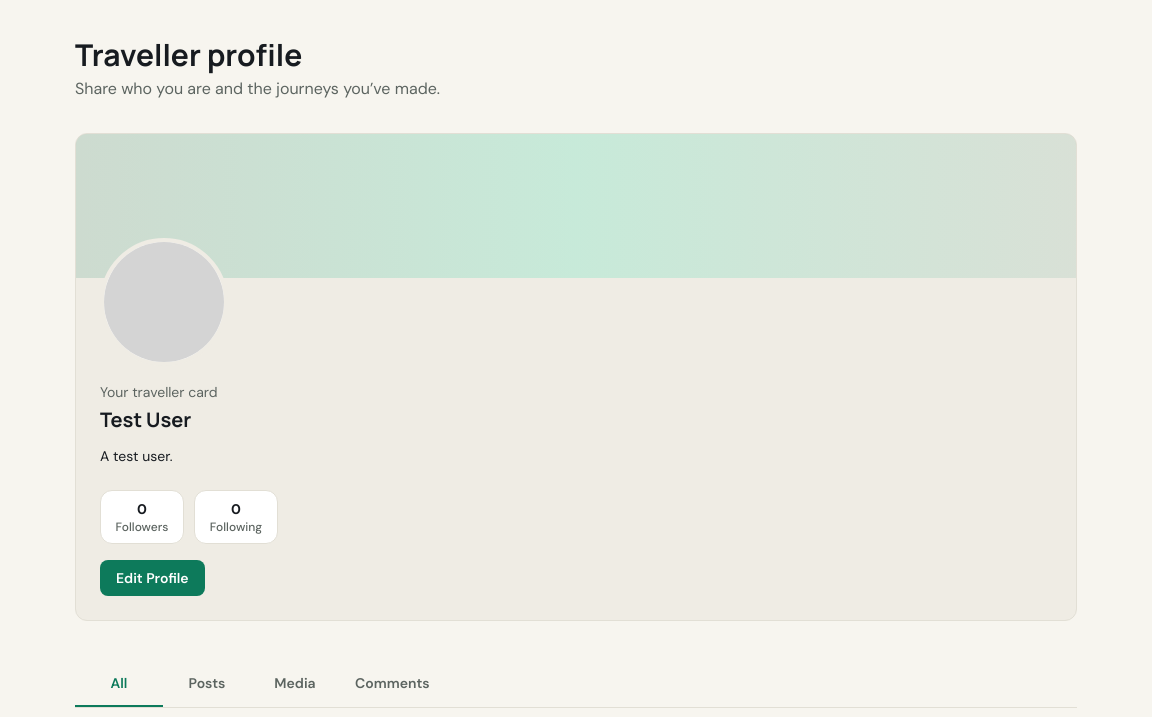
Test: Profile page rendering › shows a read-only profile until editing is requested
The image size is (1152, 717).
Click the button "Edit Profile".
click(152, 578)  # box [100,560,205,596]
(page scrolled)
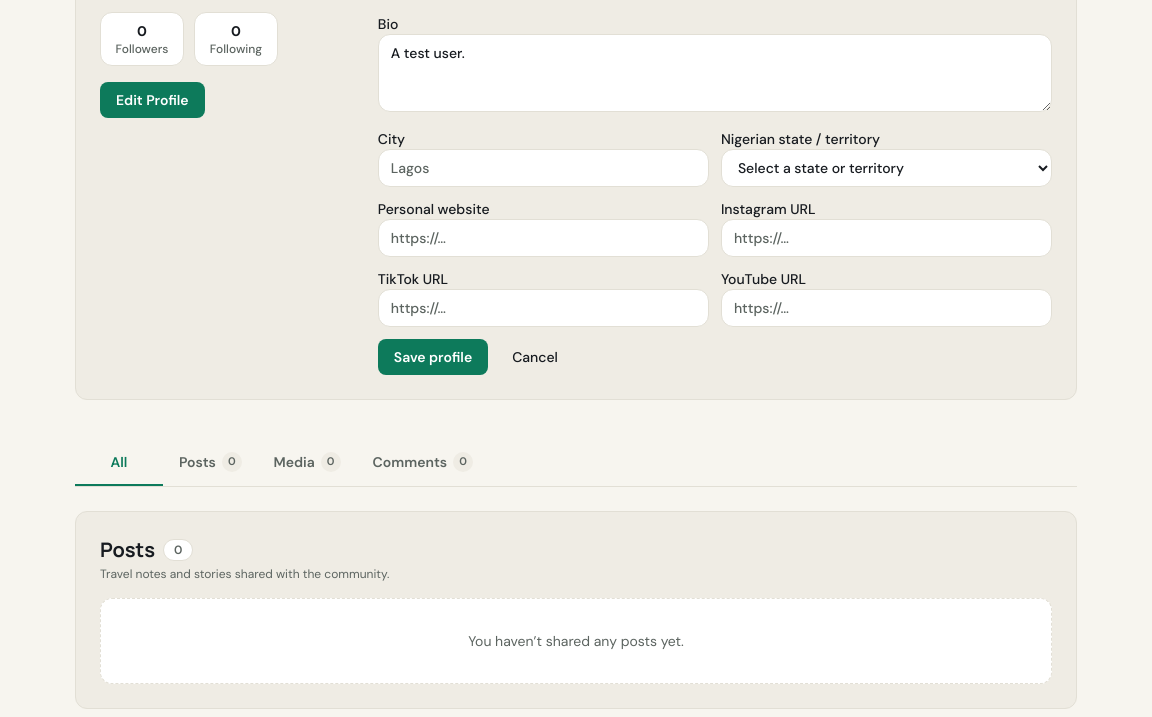
Check: the tab "Posts 0" is shown, box [163,440,258,486]
Check: the text box labelled "Bio" is shown, box [378,34,1052,112]
Check: the button "Save profile" is shown, box [378,339,488,375]
